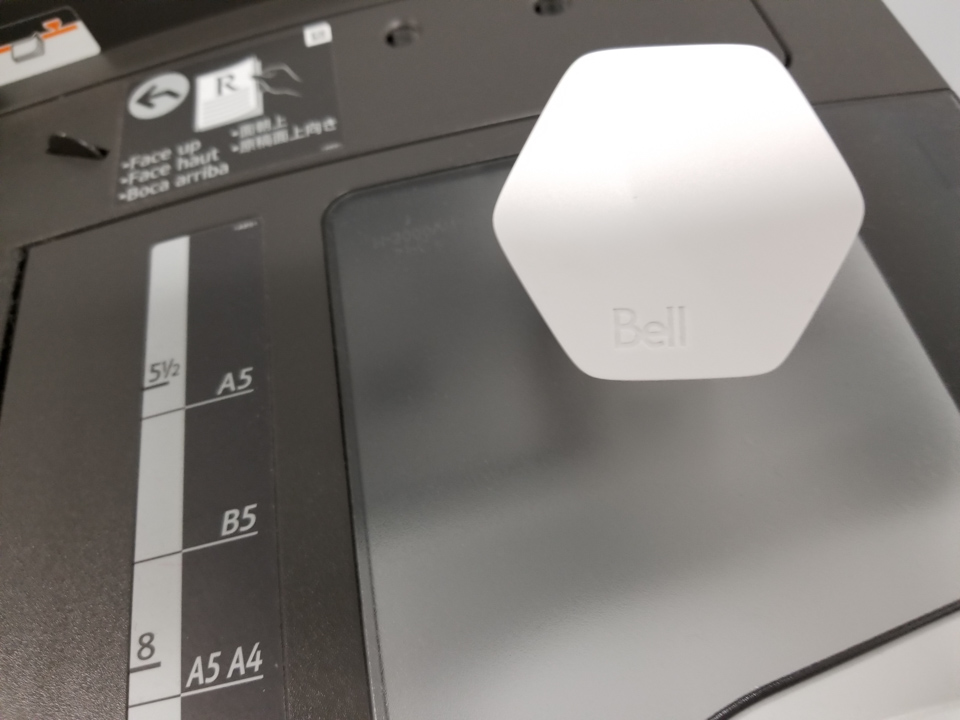pod: (483, 39, 876, 395)
